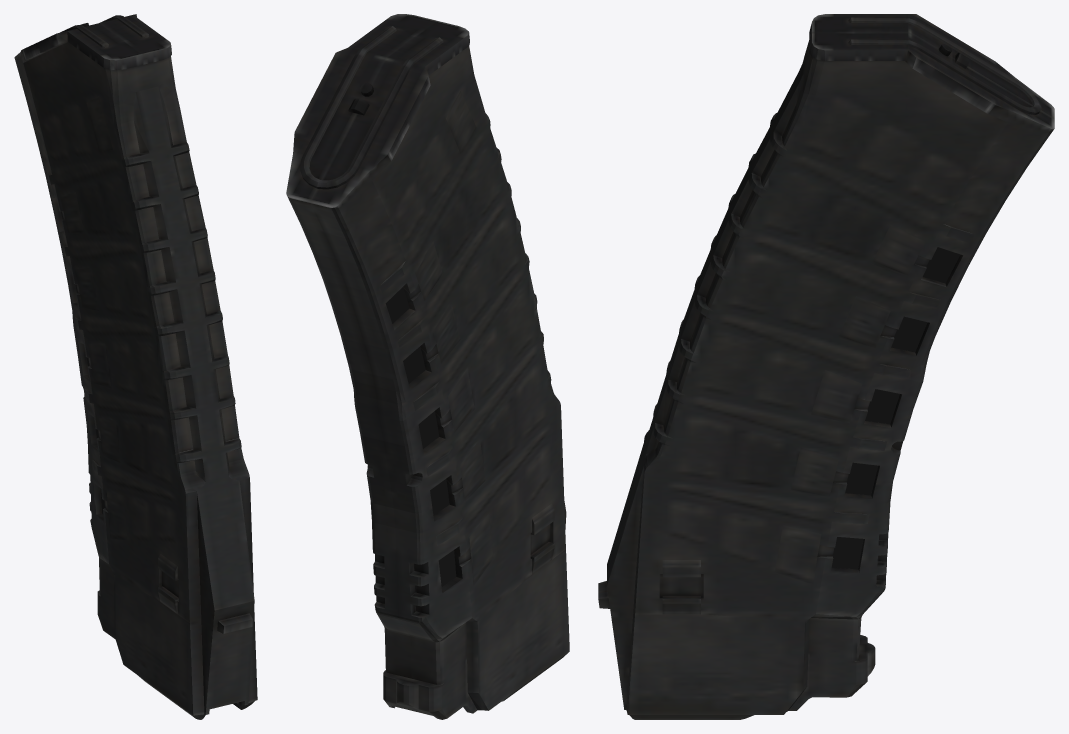
3 renders of one model, left to right at view 1: azimuth 30°, elevation 25°; view 2: azimuth 150°, elevation 25°; view 3: azimuth 270°, elevation 25°, orthographic. The views are drawn at different scales.
Visible parts, largest first — view 1: TW_649ec30cb013f04a700e60fb_PZ_Import; view 2: TW_649ec30cb013f04a700e60fb_PZ_Import; view 3: TW_649ec30cb013f04a700e60fb_PZ_Import.
Part boxes in pixels (x1,y1,x2,y2): TW_649ec30cb013f04a700e60fb_PZ_Import: (14,14,257,719); TW_649ec30cb013f04a700e60fb_PZ_Import: (286,14,569,719); TW_649ec30cb013f04a700e60fb_PZ_Import: (598,14,1054,719).
Bounding box in the file's own units: 0.0153 × 0.0675 × 0.111.
1 material, 1 textured.
